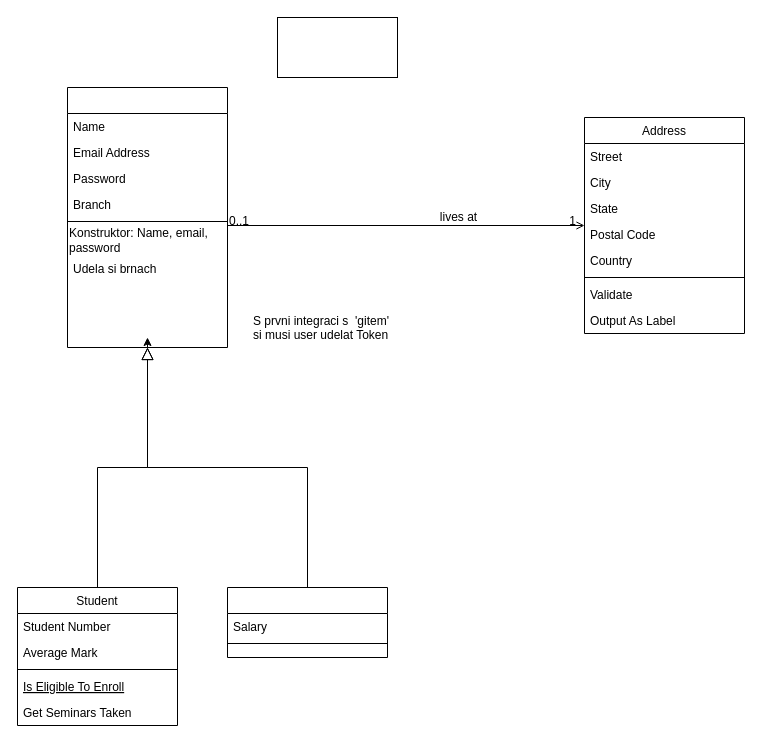
The diagram is 762 pixels wide and 746 high, and some of its shapes have lost their labels. The box of each missing label's shape, as (x1, y1, x2, y2) in pixels:
Professor: (226, 586, 388, 658)
User: (66, 86, 228, 348)
